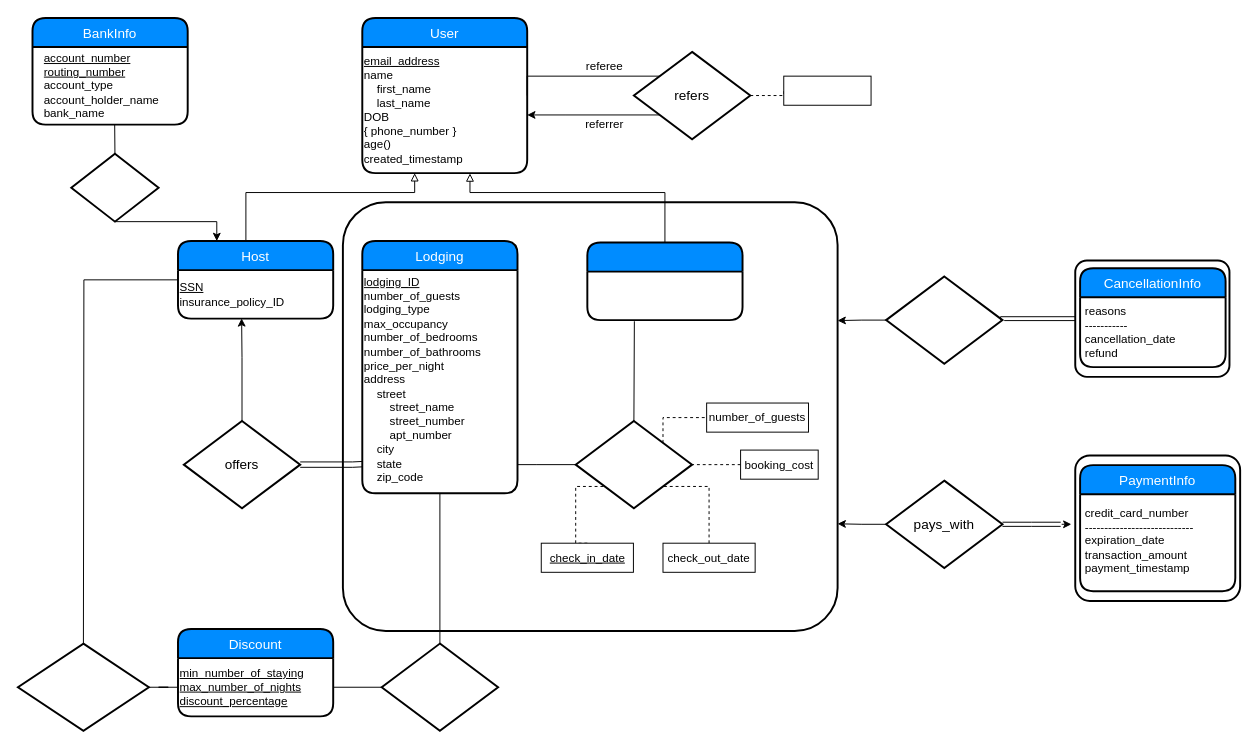
Image size: 1257x748. Some labels were removed from this diagram. Each missing label, with the centre of its shape:
applies: the point at 439,686
books: the point at 633,464
cancels_with: the point at 944,319
discount_offers: the point at 82,686
Guest: the point at 664,281
has: the point at 114,187
website_credit: the point at 827,90
